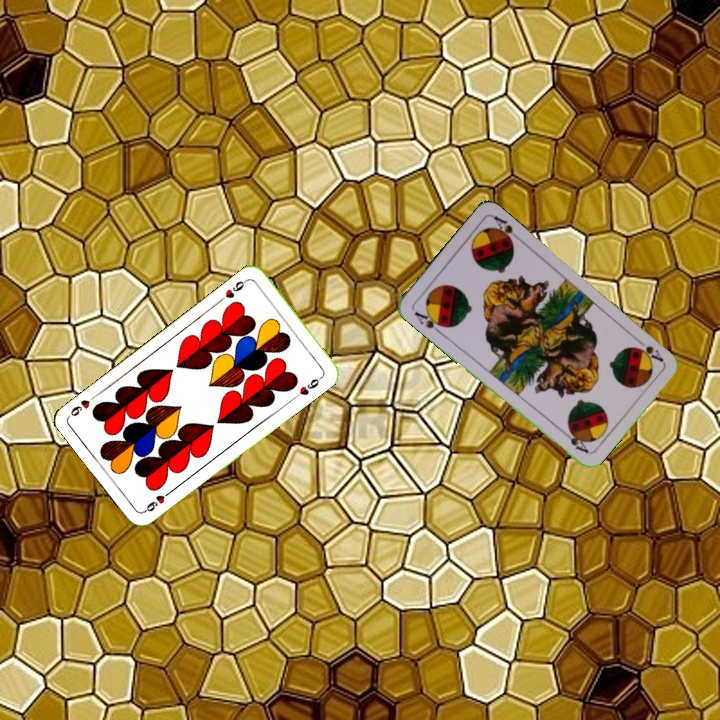H9: (216, 275, 251, 304), (140, 486, 175, 515)
SA: (630, 334, 667, 365), (410, 306, 448, 336)
